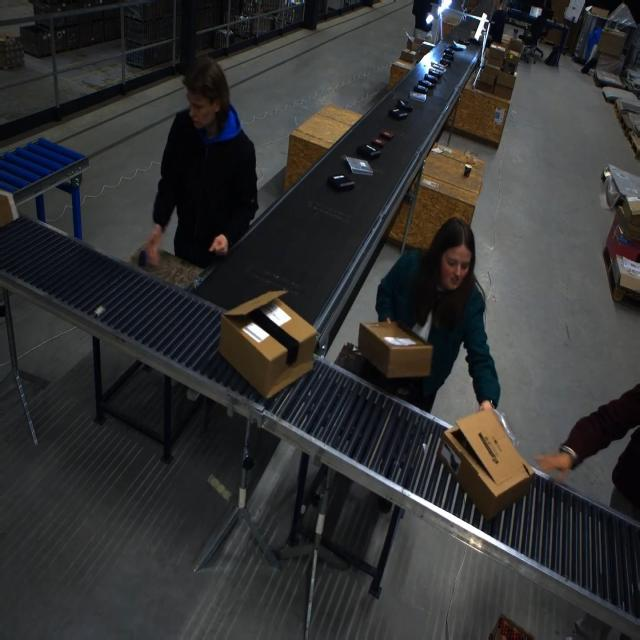box: (439, 409, 533, 522), (218, 290, 315, 398), (357, 320, 429, 381)
product: (344, 156, 372, 176), (327, 174, 354, 191), (356, 143, 381, 159), (388, 108, 408, 120), (371, 136, 388, 148), (396, 99, 413, 110), (409, 91, 426, 102), (379, 129, 394, 140), (414, 84, 429, 94), (419, 79, 434, 89), (450, 42, 466, 51), (429, 69, 443, 79), (434, 59, 448, 69), (423, 73, 436, 82), (458, 40, 470, 46)
